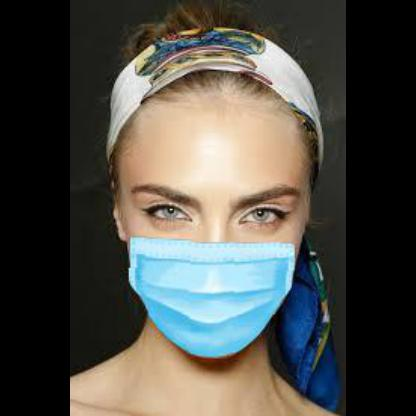Surgical Mask: (112, 42, 304, 362)
